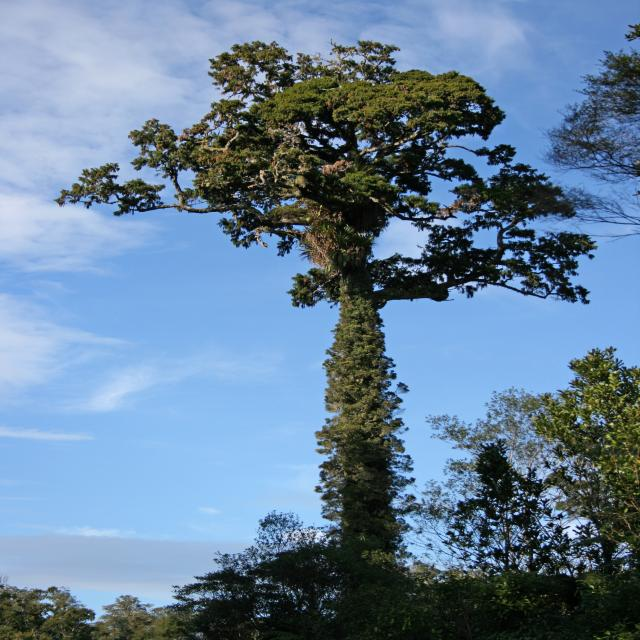Rimu: (166, 42, 464, 562)
